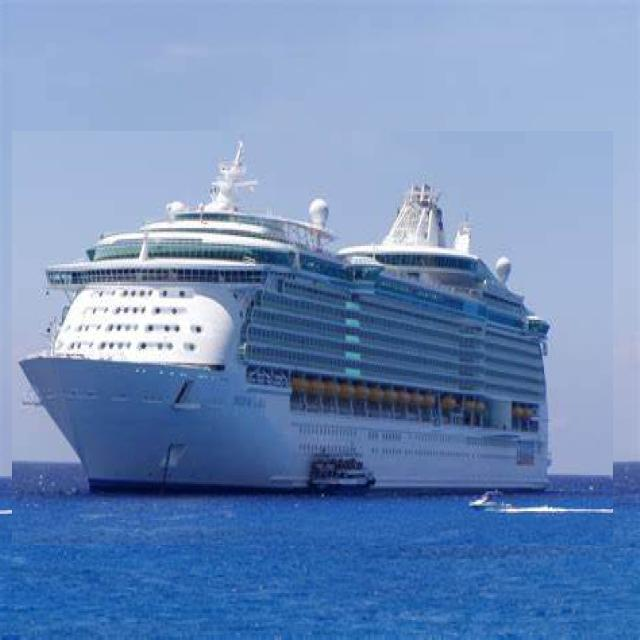PassengerShip: (12, 132, 613, 546)
